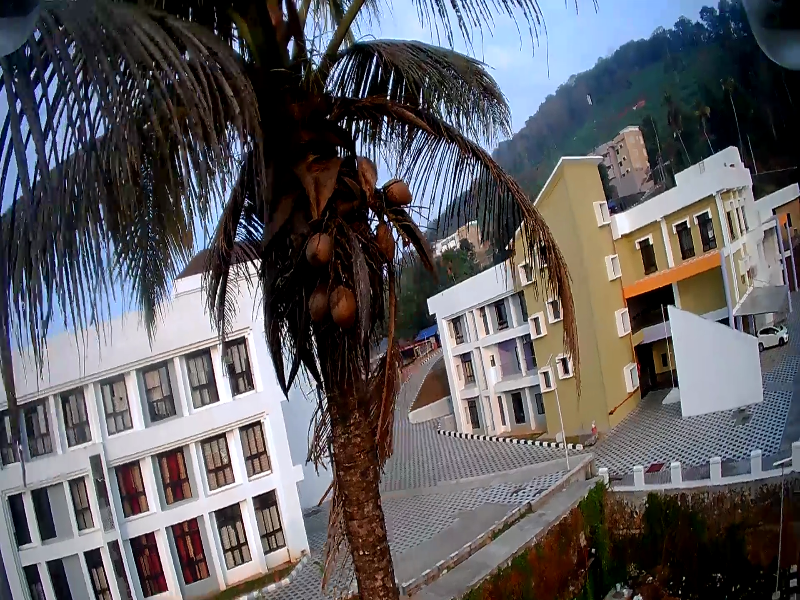coconut: (322, 281, 354, 326), (304, 227, 333, 271), (381, 177, 411, 207), (370, 224, 392, 257), (302, 293, 321, 320)
